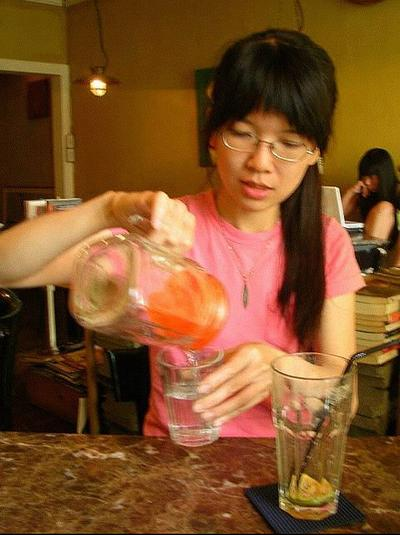person: (2, 29, 365, 438)
